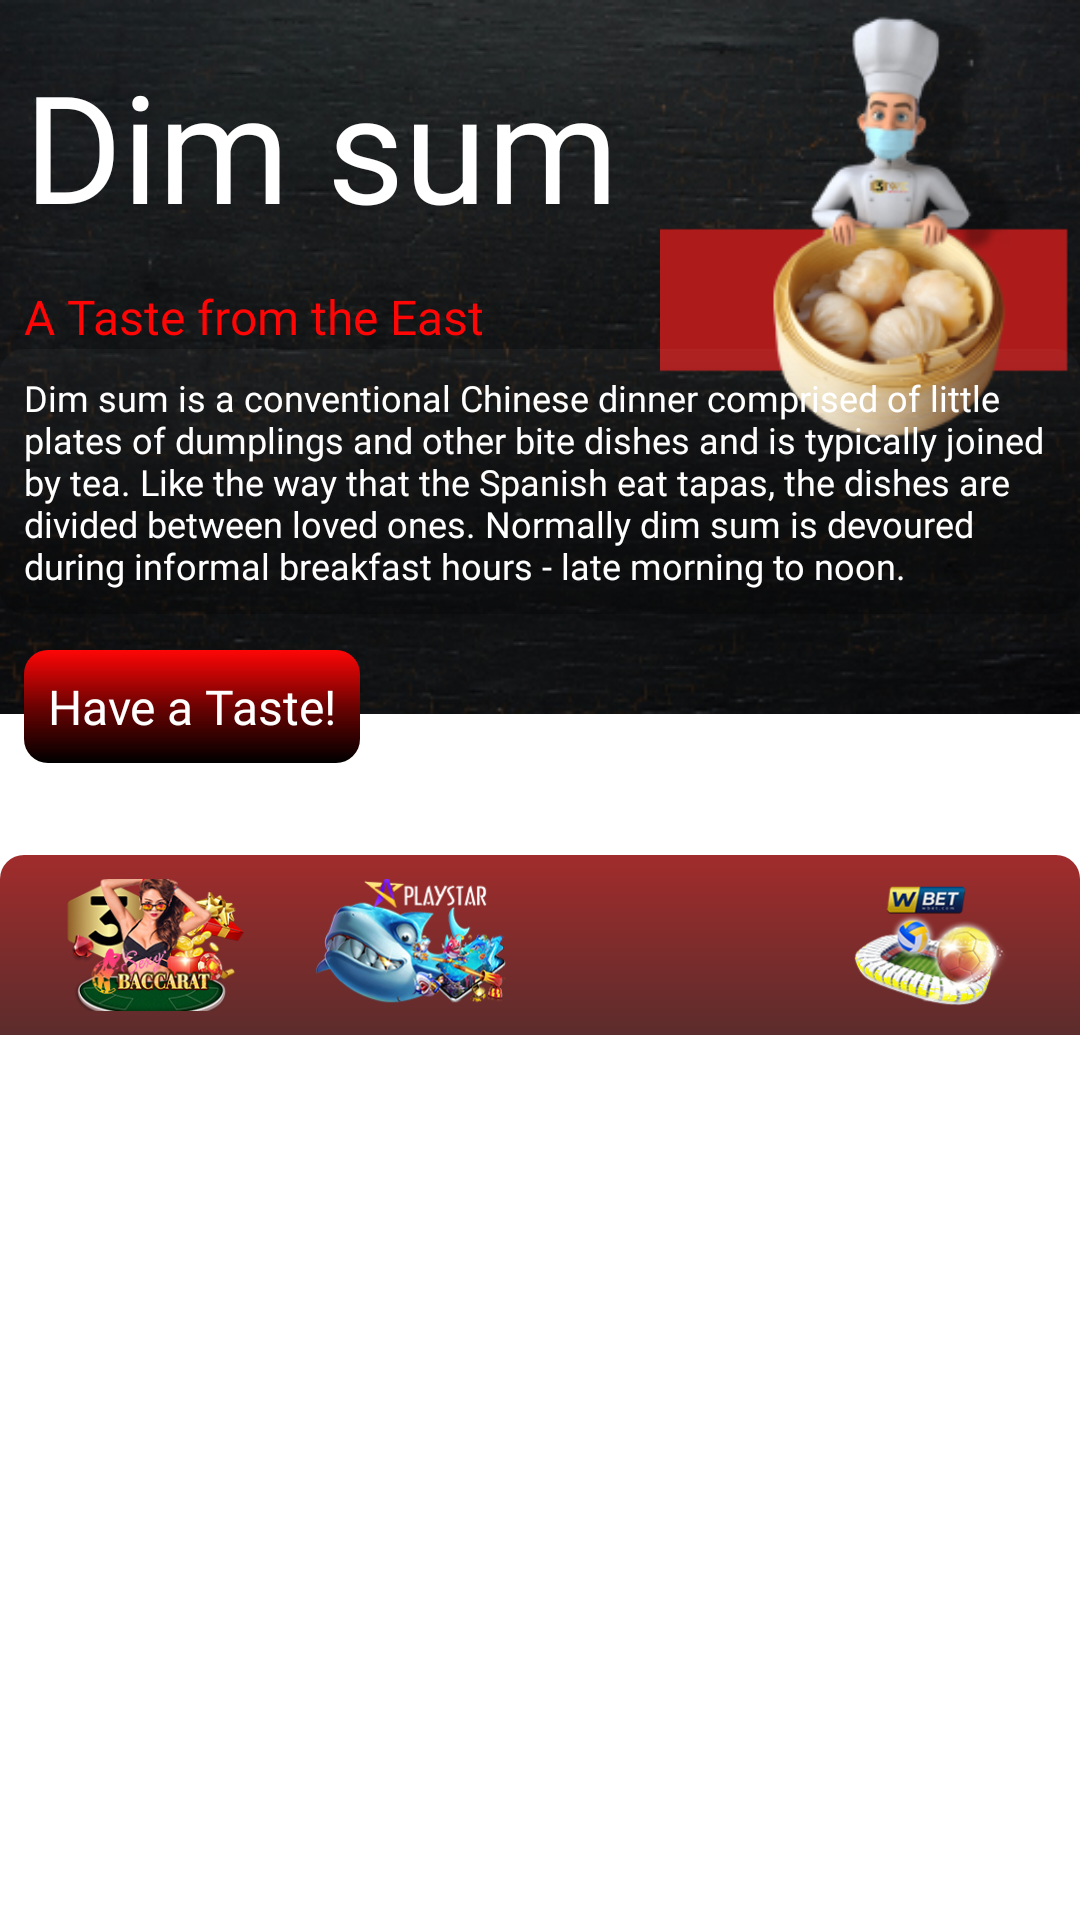

Named icons in this screenshot (1080*1920) and their centers, [x,y]:
adslady: [153,945]
